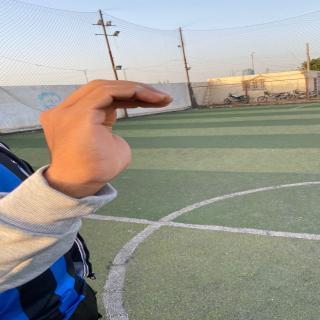HAA: (27, 70, 180, 202)
